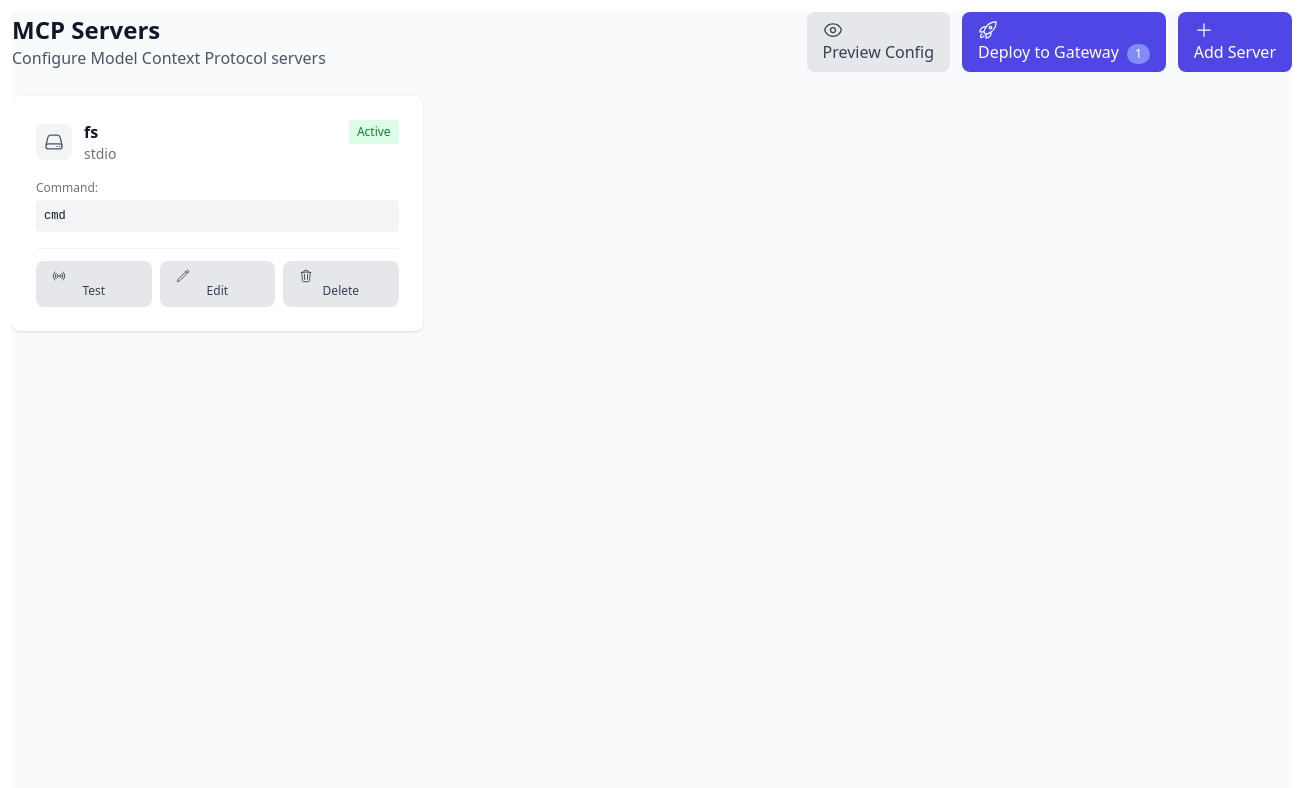
Test: MCPServers › shows stdio fields by default in create form
Click the button "Add Server" at [1235, 42], box [1178,12,1292,72]
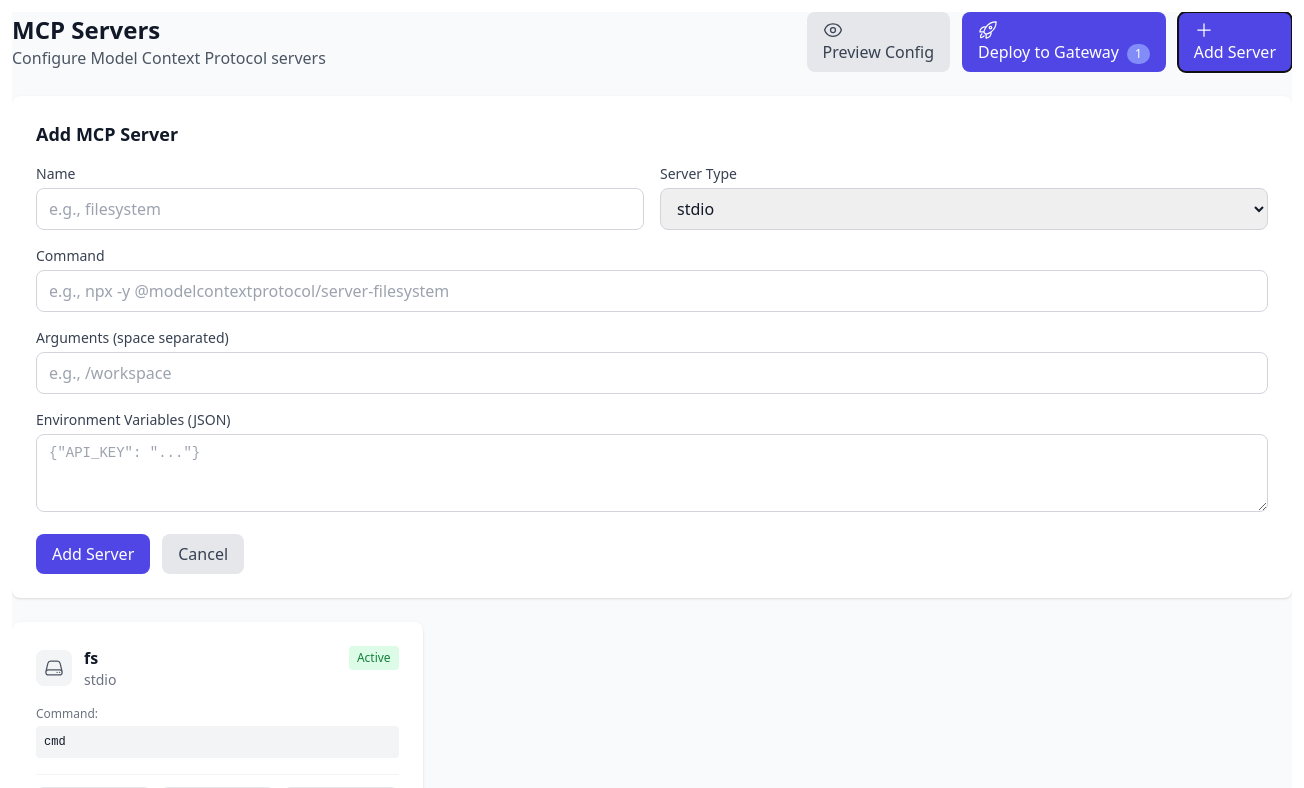
Check: the field labelled "Command" is shown, box [36,270,1268,312]
Check: the field labelled "Arguments (space separated)" is shown, box [36,352,1268,394]
